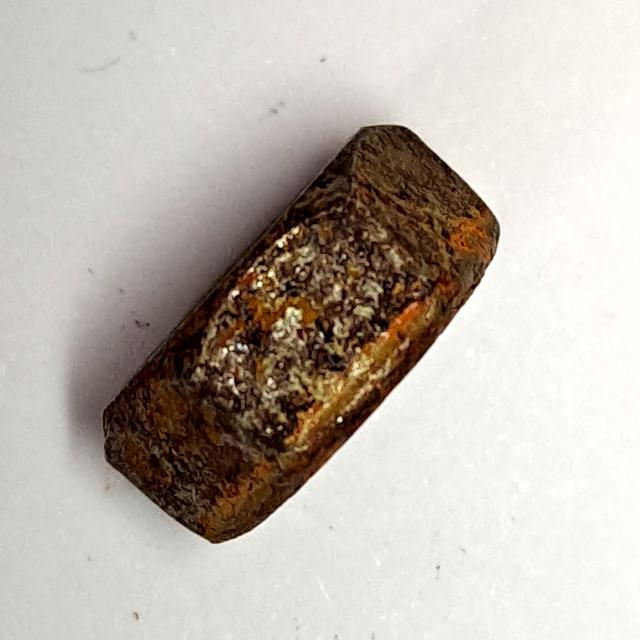Side_Rust: (87, 115, 528, 557)
